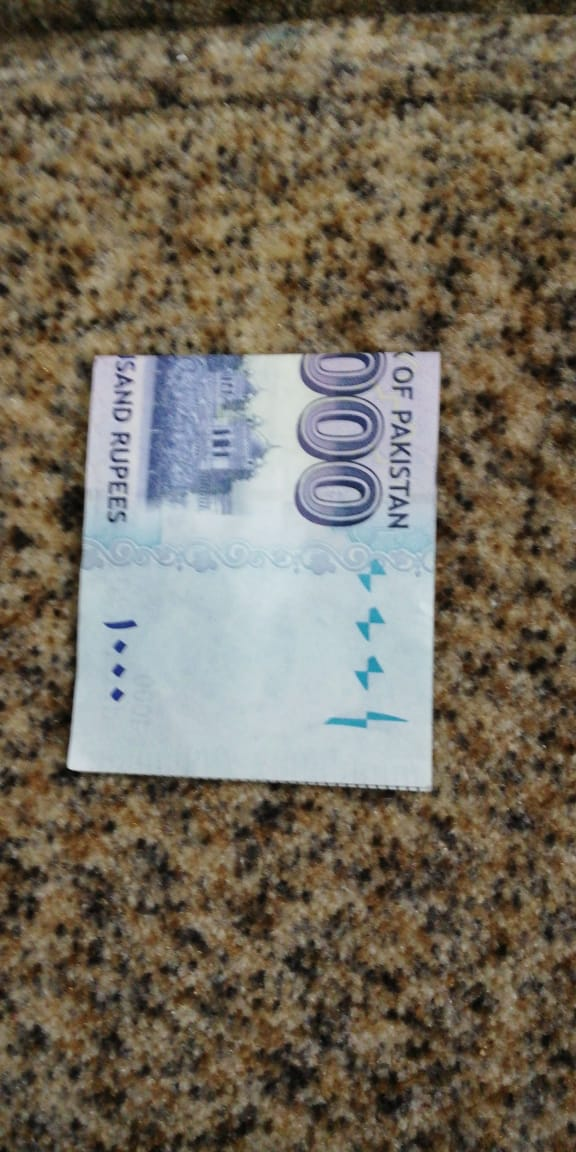1000 rupee: (53, 346, 450, 811)
